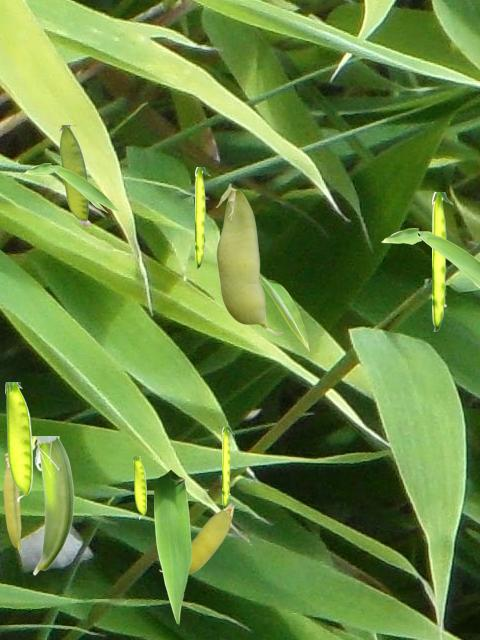pea: (215, 183, 282, 334), (32, 436, 74, 574), (159, 503, 233, 573), (5, 382, 31, 501), (59, 125, 89, 225), (432, 192, 452, 330), (3, 453, 20, 552), (195, 167, 209, 267), (222, 427, 233, 508), (133, 456, 145, 518)
